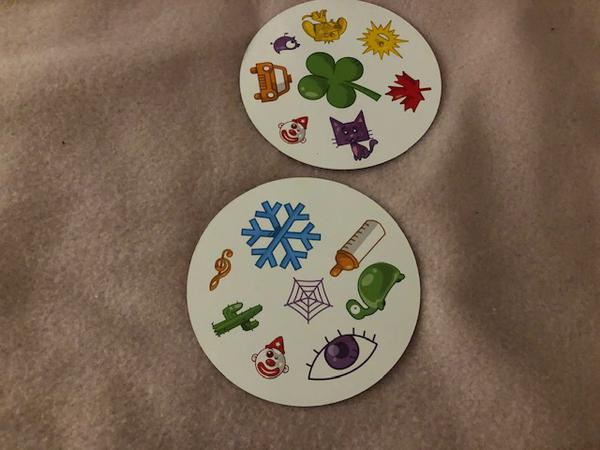biberon: (326, 217, 387, 279)
cactus: (207, 294, 265, 341)
chat: (328, 108, 380, 163)
chien: (296, 8, 350, 46)
clown: (249, 331, 295, 384), (275, 112, 313, 148)
feuille: (384, 70, 433, 115)
flocon: (239, 199, 320, 275)
note: (205, 247, 236, 292)
oeuil: (303, 326, 381, 383)
oiseau: (266, 31, 301, 56)
soleil: (355, 18, 411, 63)
toile: (281, 274, 332, 324)
tortue: (342, 259, 408, 323)
trefle: (295, 51, 386, 111)
voiture: (245, 57, 291, 105)
